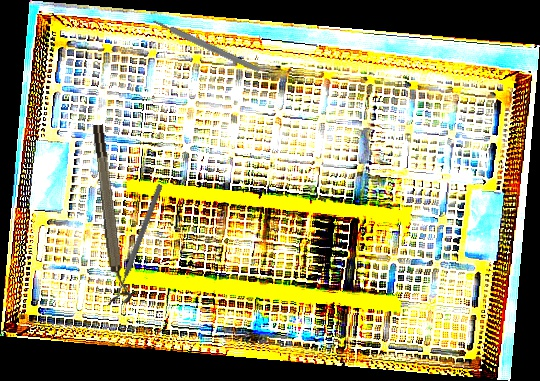Fixation Ring: (89, 123, 133, 305)
Pusher: (111, 183, 164, 305)
Scalpel Handle: (152, 17, 261, 74)
